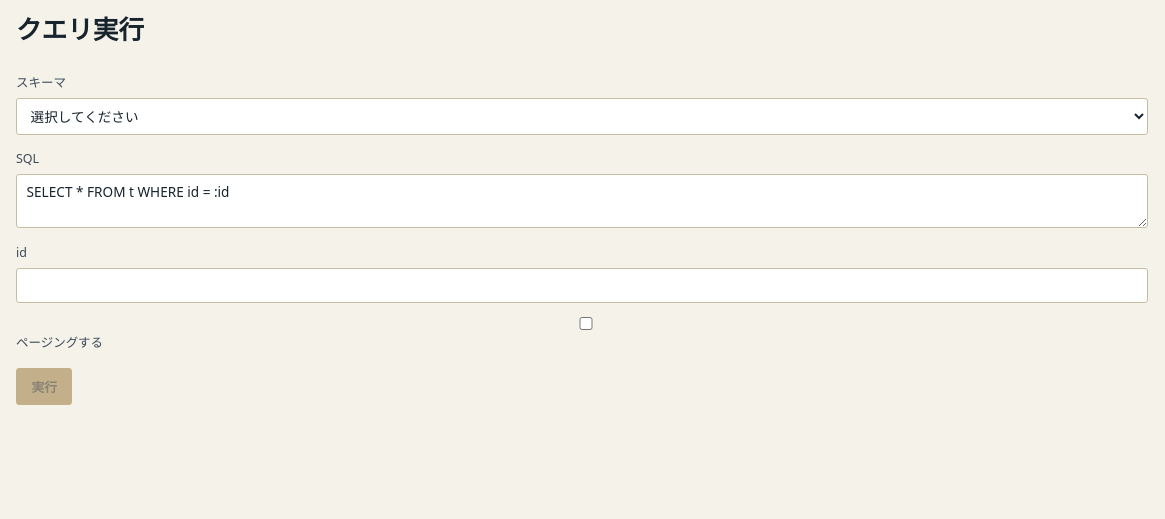
Scenario: QueryExecutionPage › executes adhoc SQL with the selected schema/connectionId and entered parameter values
Select "S1" in the dropdown with test id "query-execution-page-schema-select" at (582, 116), box x1=16 y1=98 x2=1148 y2=135
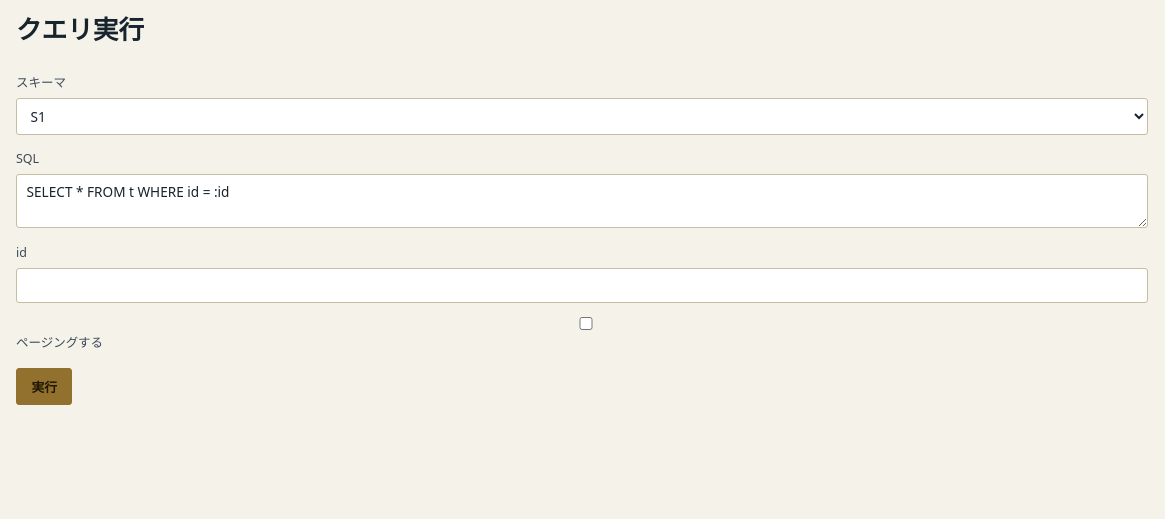
Type "42" into the field with test id "query-execution-page-param-id".
click(582, 285); type("42")  # box x1=16 y1=268 x2=1148 y2=303
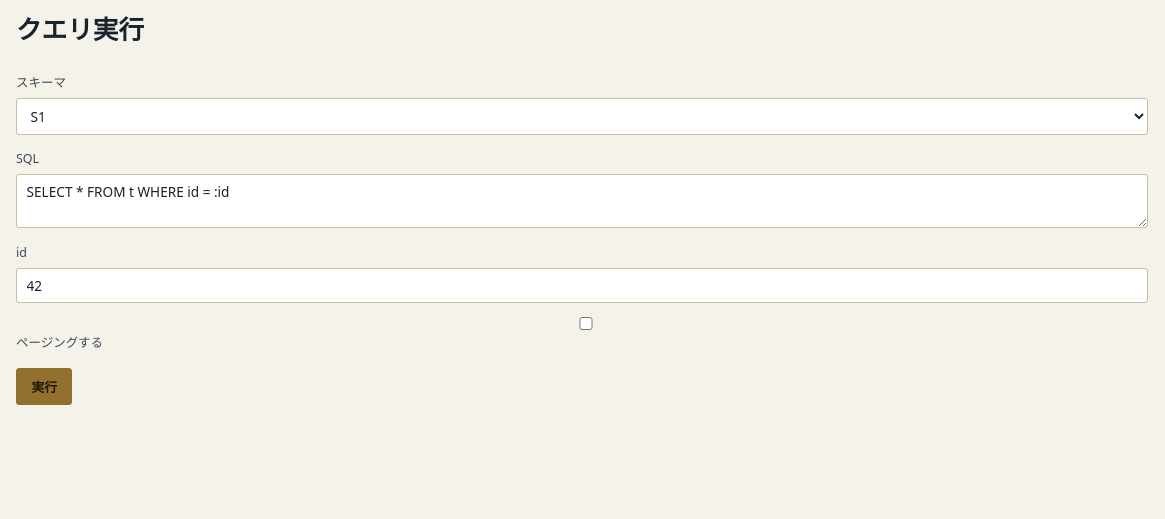
Click the button with test id "query-execution-page-execute-button".
click(44, 386)  # box x1=16 y1=368 x2=72 y2=405
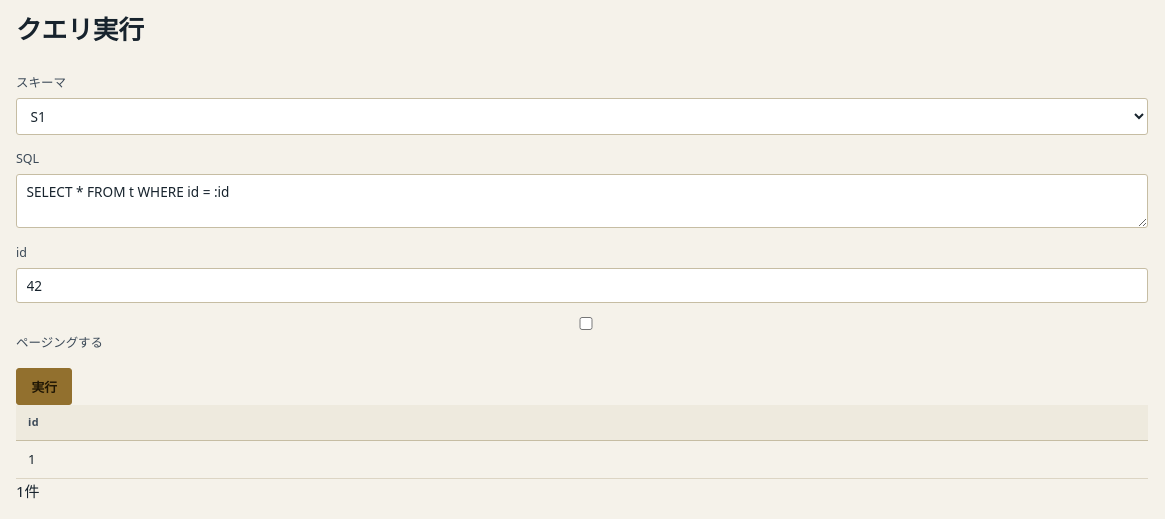
Check: the element with test id "query-execution-page-result" is shown, box x1=16 y1=405 x2=1148 y2=503
